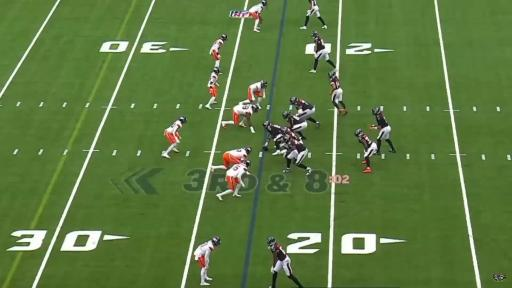Helmet: (267, 236, 276, 248), (282, 111, 291, 120), (212, 237, 221, 246), (372, 107, 381, 115), (262, 120, 271, 128), (355, 129, 363, 137), (311, 30, 318, 39), (261, 80, 268, 88), (245, 146, 252, 154), (290, 97, 297, 104), (179, 116, 186, 123), (244, 160, 251, 167), (284, 135, 291, 142), (252, 104, 258, 112), (214, 67, 220, 74), (328, 71, 335, 77), (281, 127, 287, 134), (262, 0, 267, 6), (221, 35, 227, 40)
Jersey: (282, 138, 305, 153), (194, 240, 214, 257), (275, 130, 300, 142), (271, 243, 287, 261), (227, 164, 247, 178), (266, 125, 281, 140), (227, 149, 247, 160), (166, 121, 182, 134), (295, 99, 313, 110), (234, 105, 253, 115), (358, 135, 372, 148), (210, 39, 223, 53), (376, 113, 388, 128), (288, 115, 304, 126), (249, 81, 264, 92), (208, 72, 218, 87), (315, 36, 325, 51), (249, 4, 263, 13), (331, 76, 340, 90), (310, 0, 317, 6)
Player: (267, 237, 303, 287), (216, 160, 250, 200), (194, 237, 220, 285), (281, 135, 311, 175), (369, 108, 395, 154), (222, 103, 259, 133), (310, 31, 335, 72), (162, 117, 186, 158), (355, 129, 377, 173), (211, 147, 251, 171), (290, 97, 320, 127), (272, 127, 303, 155), (328, 70, 347, 115), (301, 0, 327, 29), (241, 80, 267, 108), (283, 111, 307, 139), (263, 122, 283, 152), (206, 67, 220, 109), (249, 0, 267, 32), (210, 34, 227, 67)
